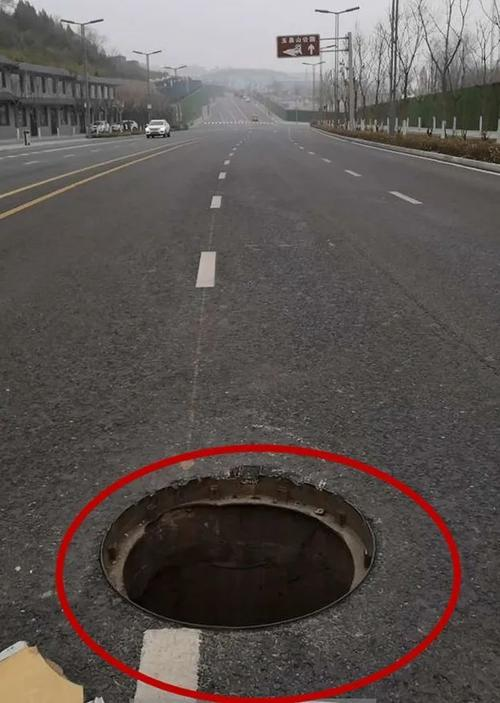lose: (94, 469, 381, 621)
